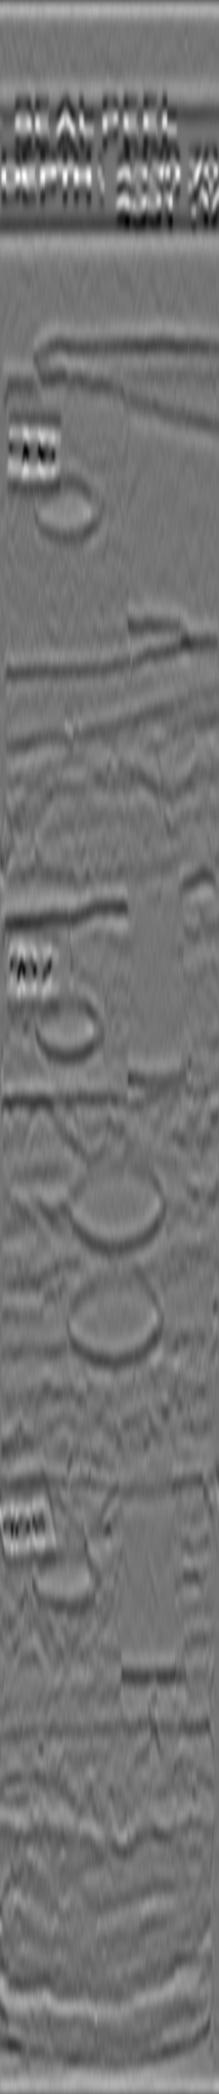hplug: (23, 1537, 99, 1623), (23, 469, 103, 548), (29, 990, 105, 1068)
scal: (60, 1263, 171, 1376), (64, 1147, 171, 1257)
vplug: (114, 373, 199, 652), (99, 1469, 198, 1693), (118, 853, 195, 1095)
